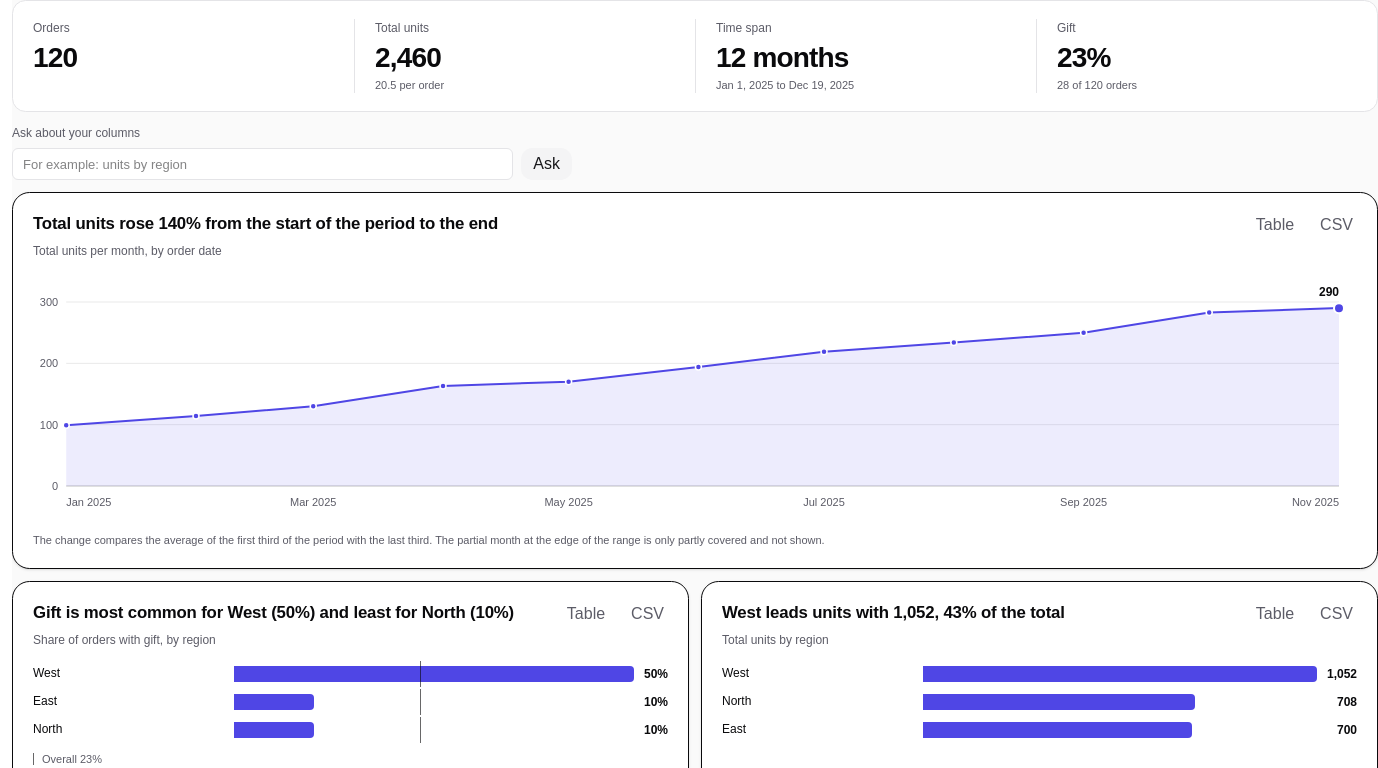
it: StoryDashboard › reorders the dashboard around a question and can clear it
The width and height of the screenshot is (1378, 768).
Type "gift by region" into the field labelled "Ask about your columns" at (263, 164), box x1=12 y1=148 x2=513 y2=180
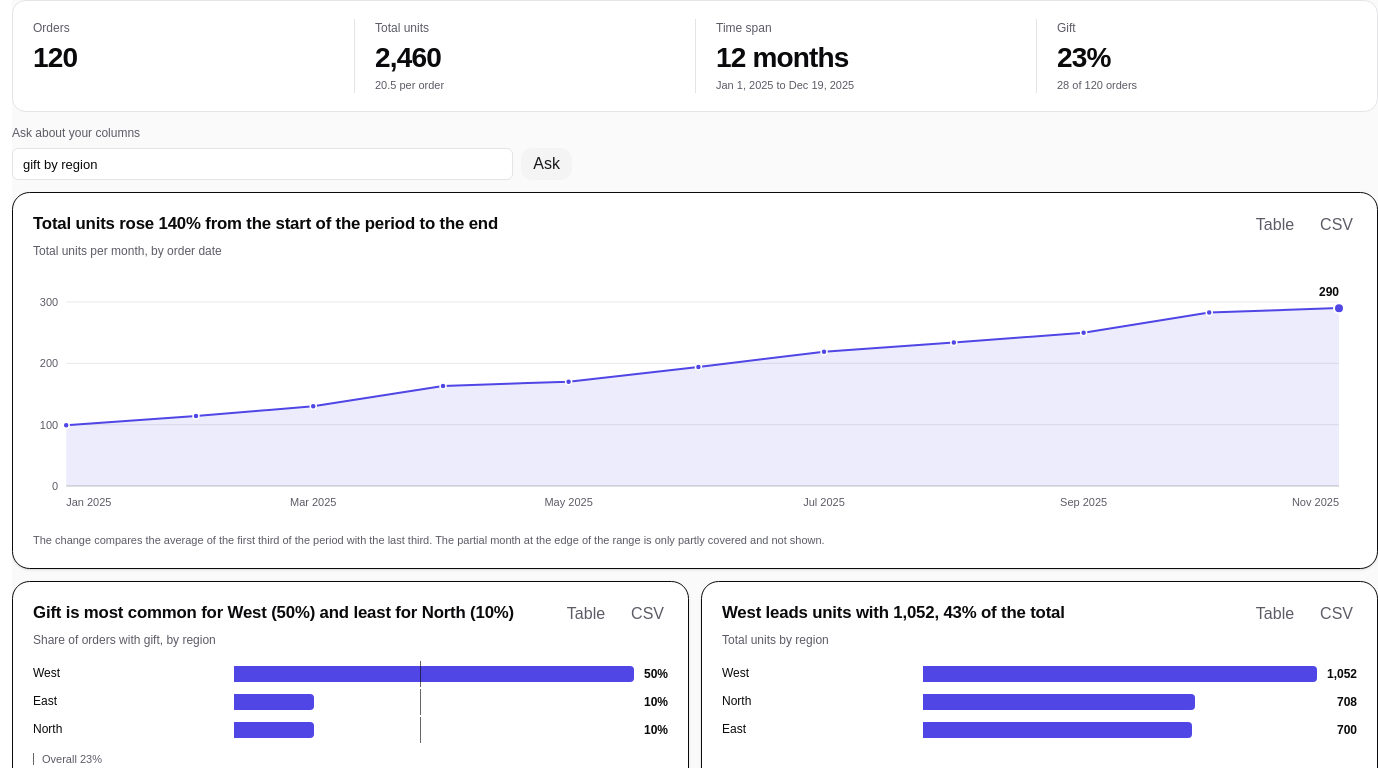
Click the button "Ask" at (547, 164), box x1=521 y1=148 x2=572 y2=180
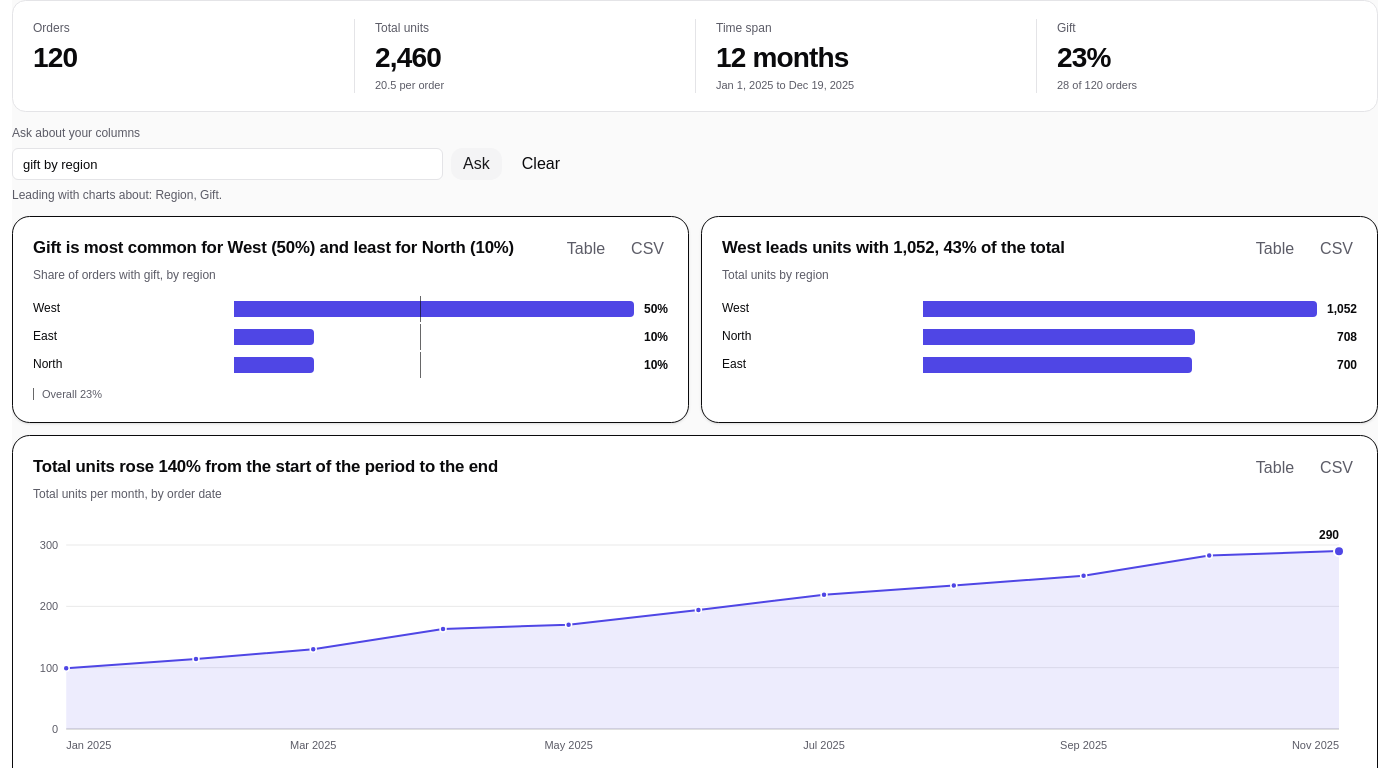
Check: the heading "Gift is most common for West (50%) and least for North (10%)" is shown, box x1=33 y1=237 x2=514 y2=260
Check: the message reads "Leading with charts about: Region, Gift.", box x1=12 y1=188 x2=222 y2=202
Replace the text in the field labelled "Ask about your columns" with "weather on mars" at (228, 164), box x1=12 y1=148 x2=443 y2=180
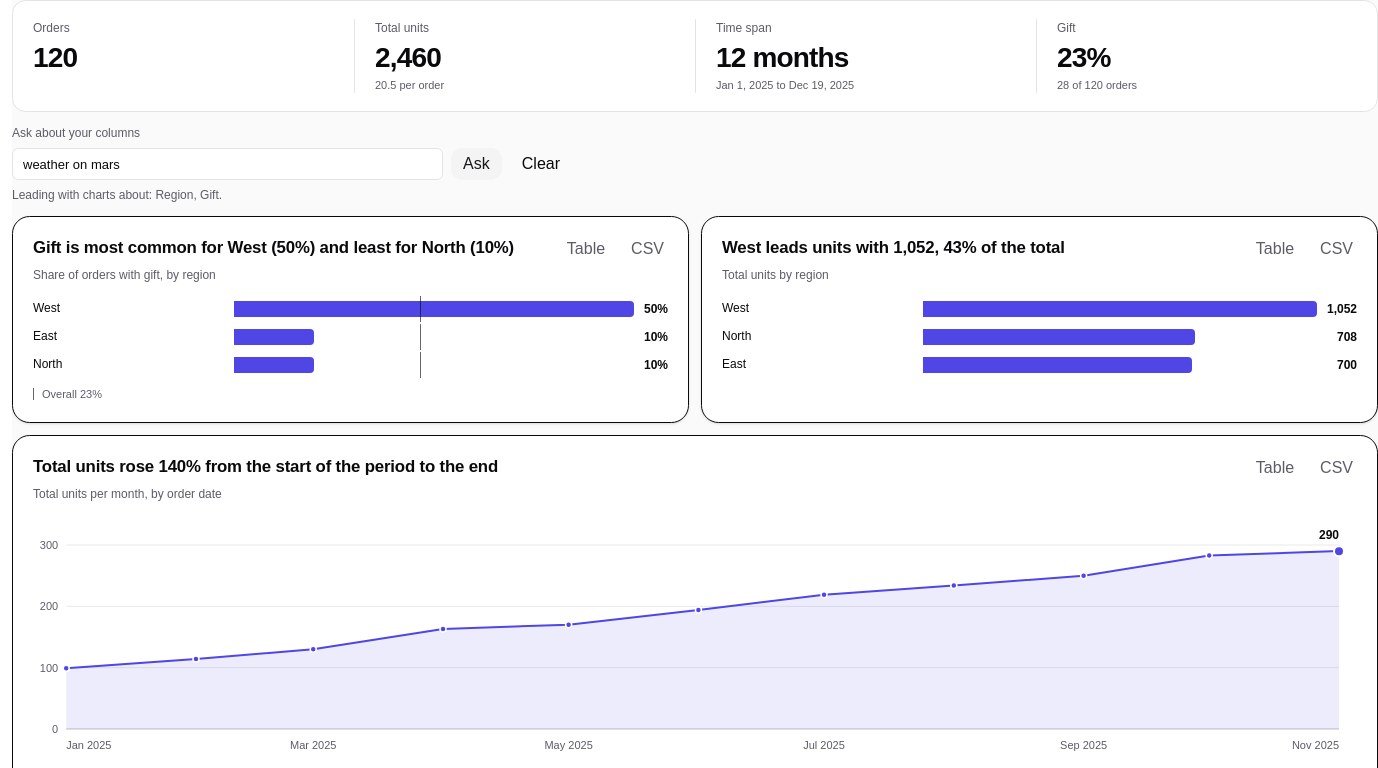
Click the button "Ask" at (476, 164), box x1=451 y1=148 x2=502 y2=180
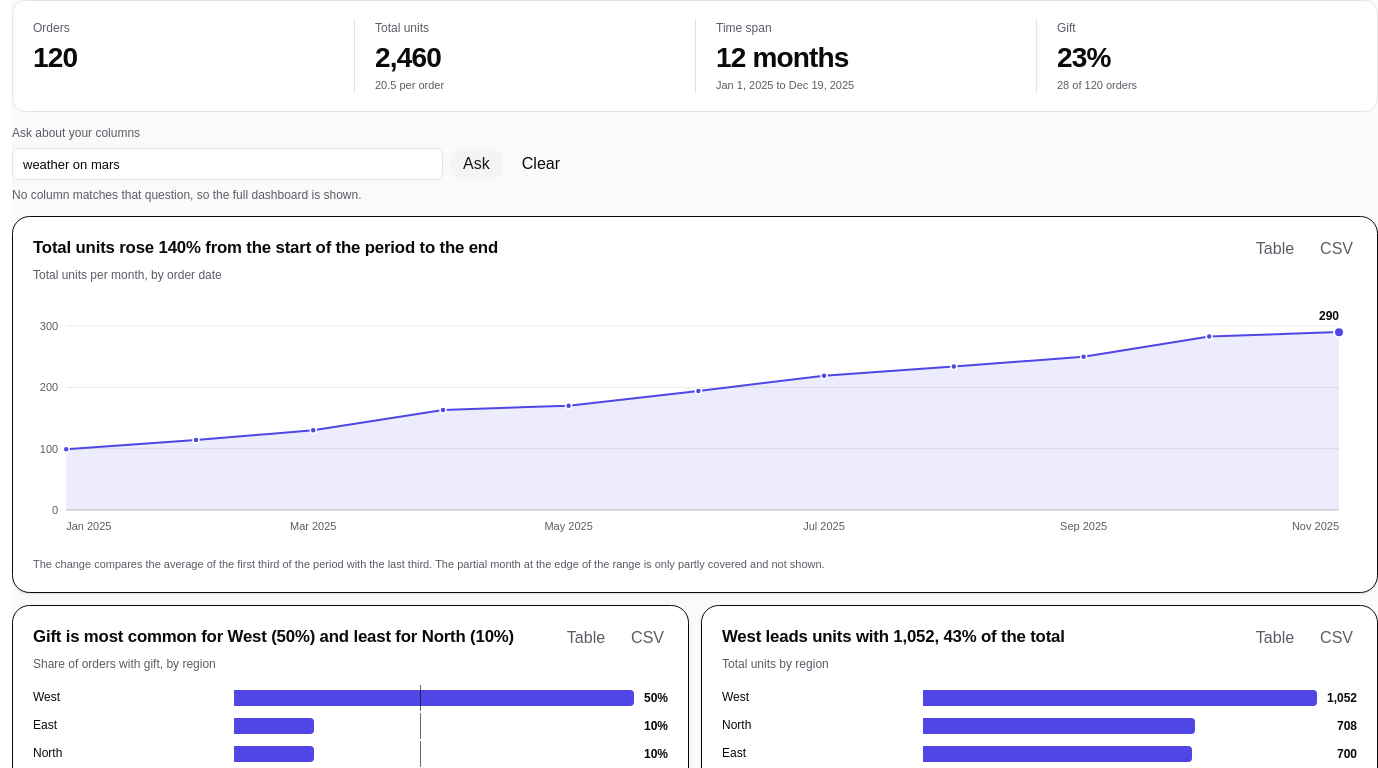
Check: the message reads "No column matches that question, so the full dashboard is shown.", box x1=12 y1=188 x2=362 y2=202
Click the button "Clear" at (541, 164), box x1=510 y1=148 x2=572 y2=180
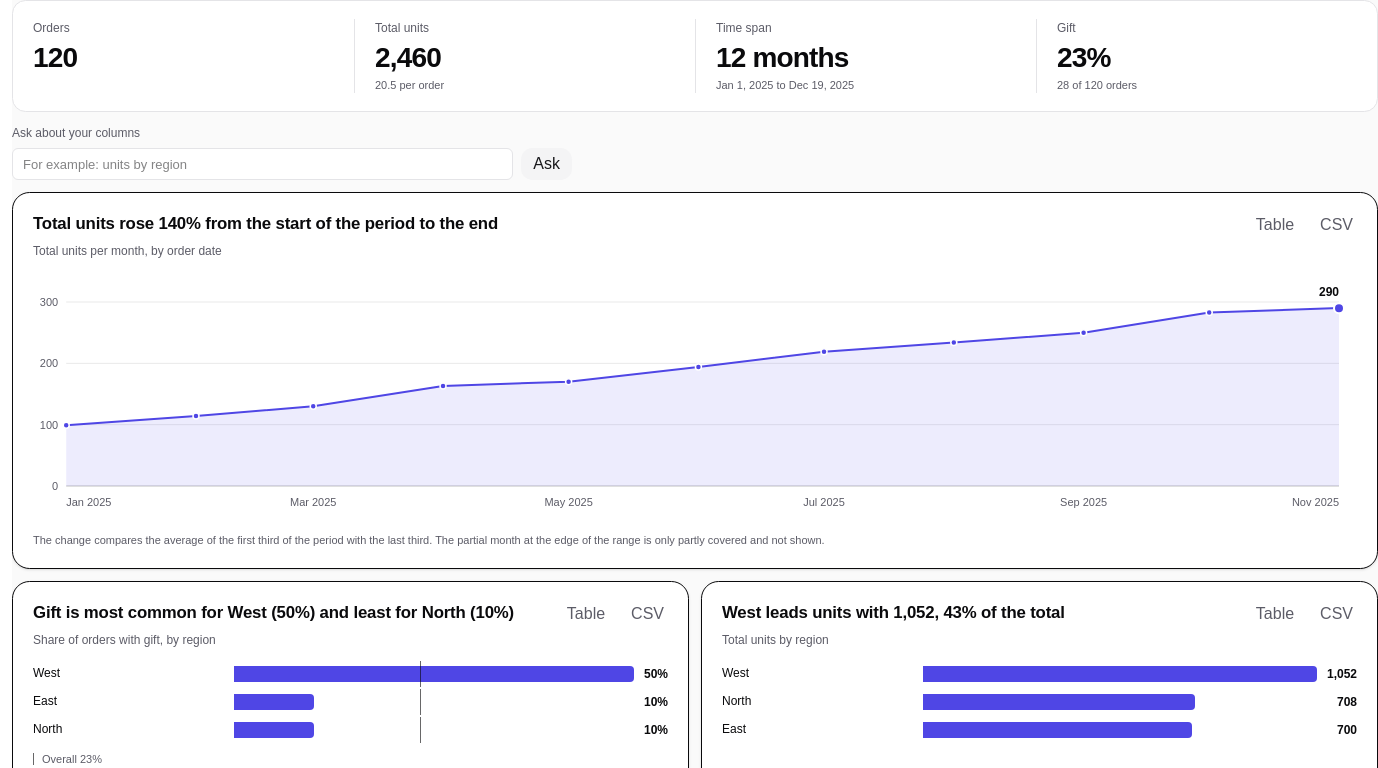
Check: the message "No column matches that question, so the full dashboard is shown." is gone
Check: the field labelled "Ask about your columns" is empty, box x1=12 y1=148 x2=513 y2=180
